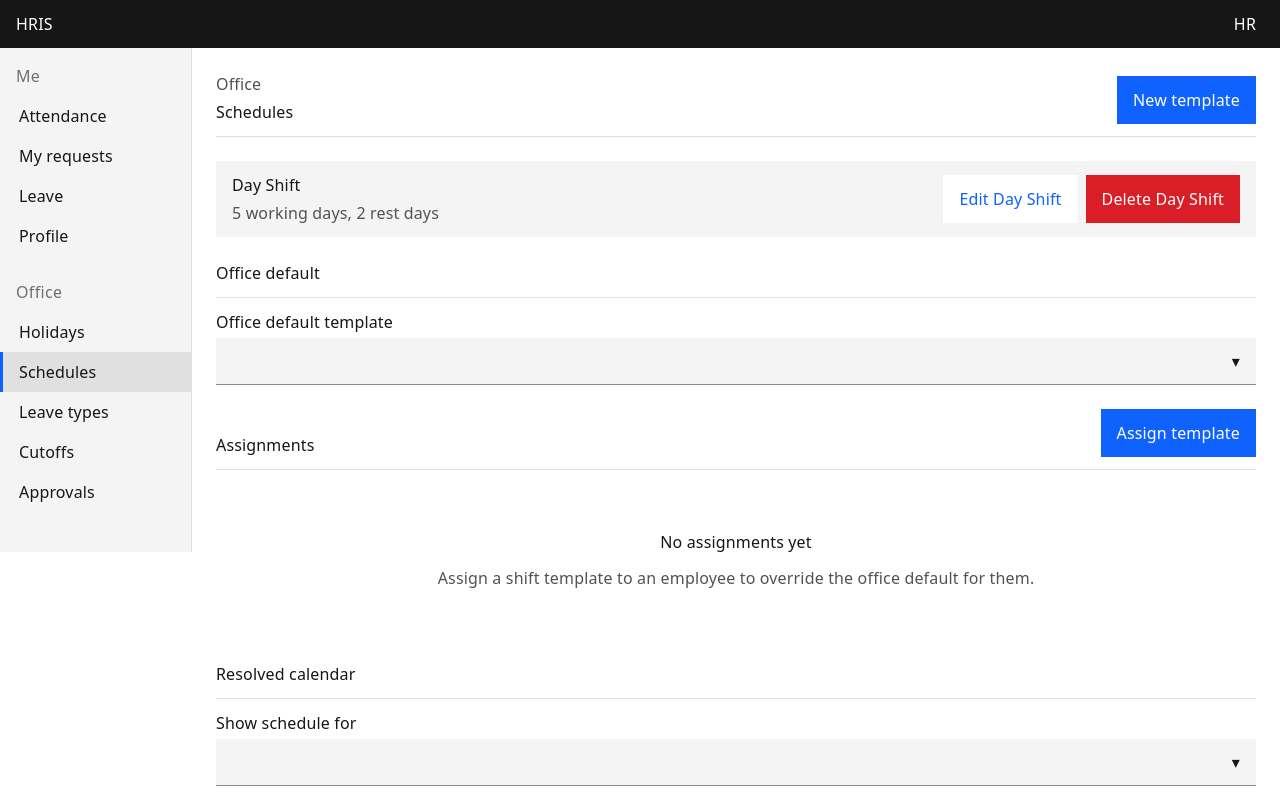
Test: /office/schedules — assign a template › surfaces a 422 schedule_assignment_exists error via InlineNotification instead of crashing
The width and height of the screenshot is (1280, 800).
expect the text "No assignments yet" is shown: met, box [660,530,812,554]
Click the button "Assign template".
click(1178, 433)  # box [1100,409,1256,457]
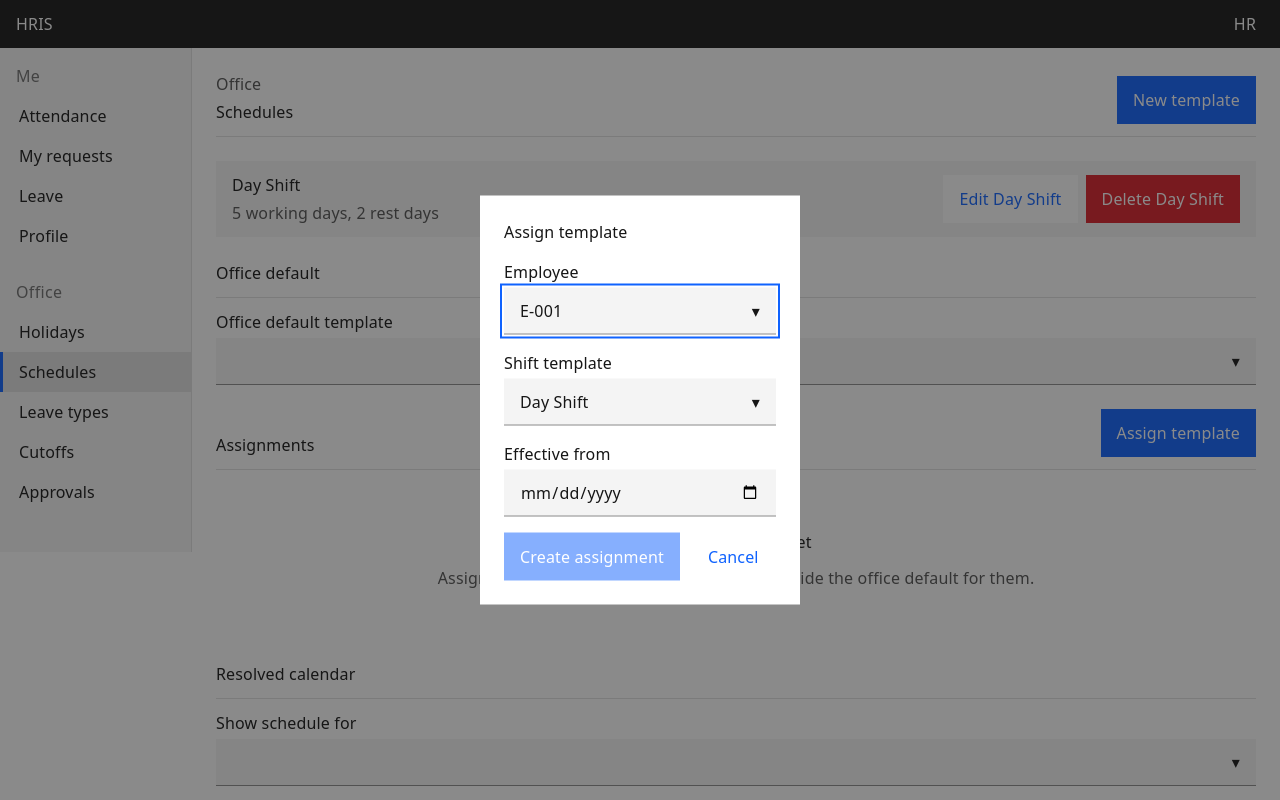
expect the dialog "Assign template" is shown: met, box [480,196,800,604]
Type "2026-02-01" into the date field labelled "Effective from".
click(640, 493); type("2026-02-01")  # box [504,470,776,516]
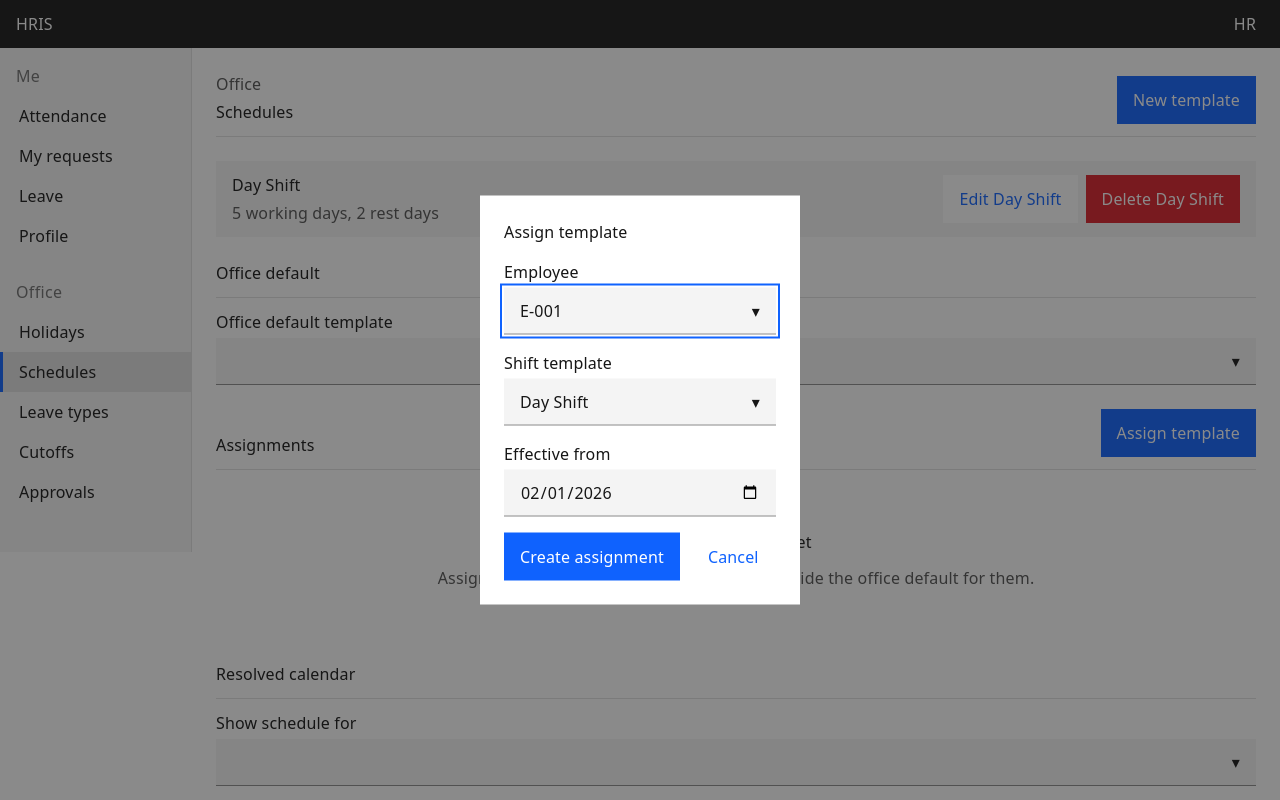
Click the button "Create assignment".
click(592, 556)  # box [504,532,680,580]
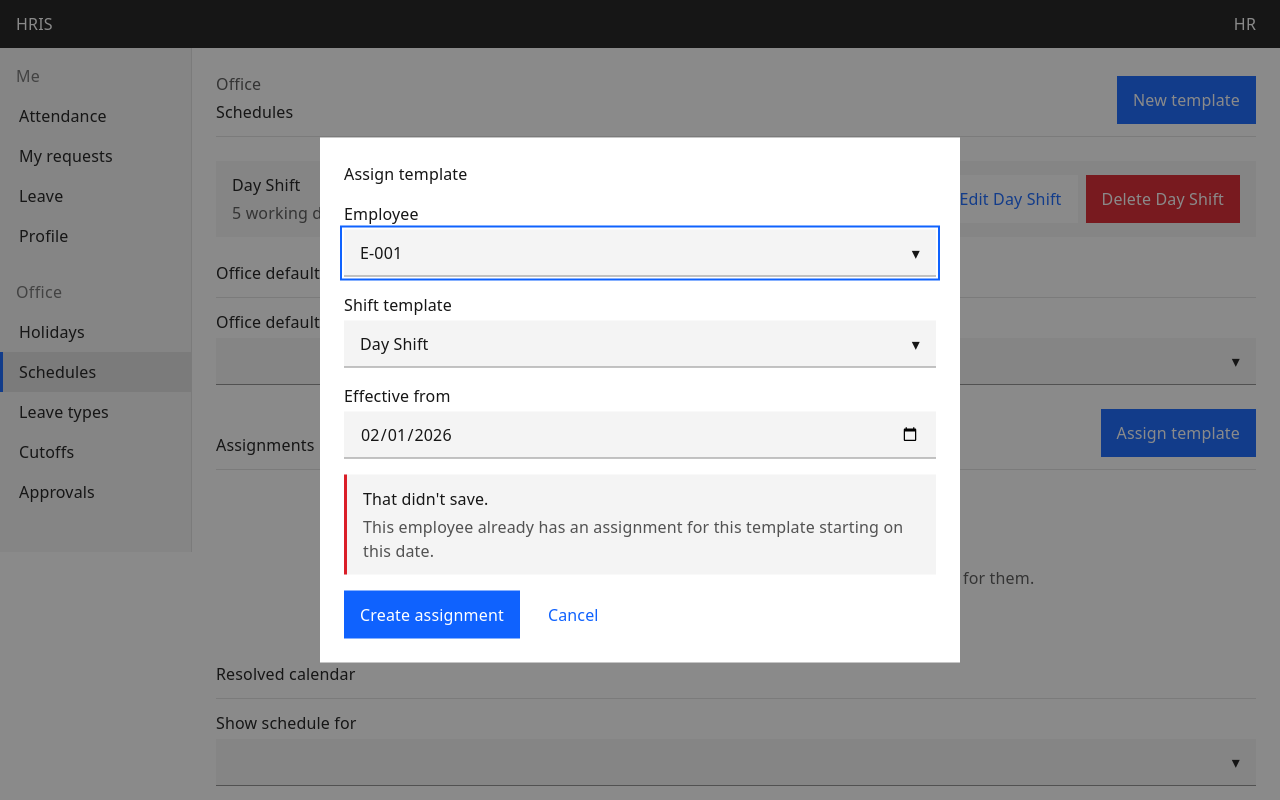
expect the dialog "Assign template" is shown: met, box [320,138,960,662]
expect the text "This employee already has an assignment for this template starting on this date." is shown: met, box [363,514,920,562]
